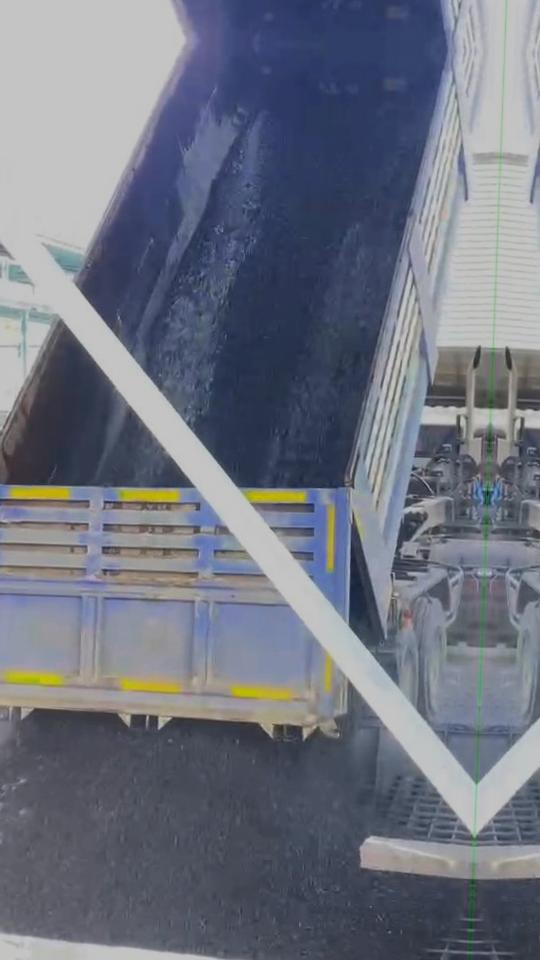gravel: (133, 70, 429, 484), (0, 714, 465, 960), (95, 412, 186, 483)
